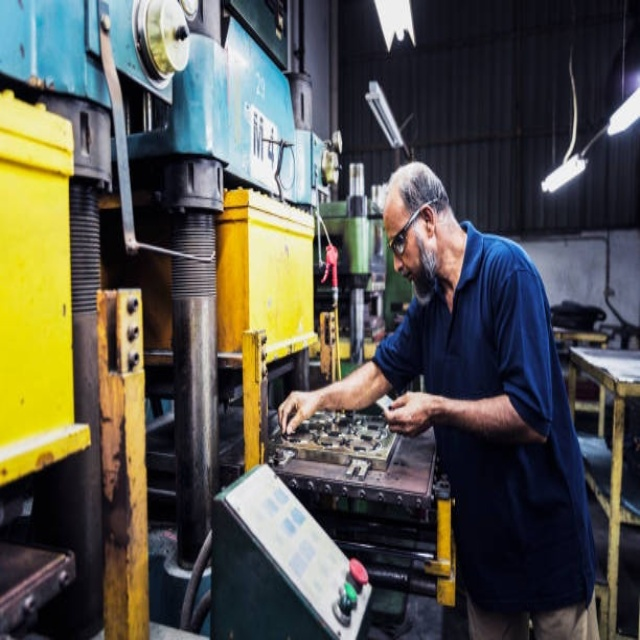Gafas: (387, 201, 435, 256)
Sin_guantes: (381, 388, 435, 438), (275, 390, 318, 437)
Sin_mascara: (396, 262, 420, 290)
